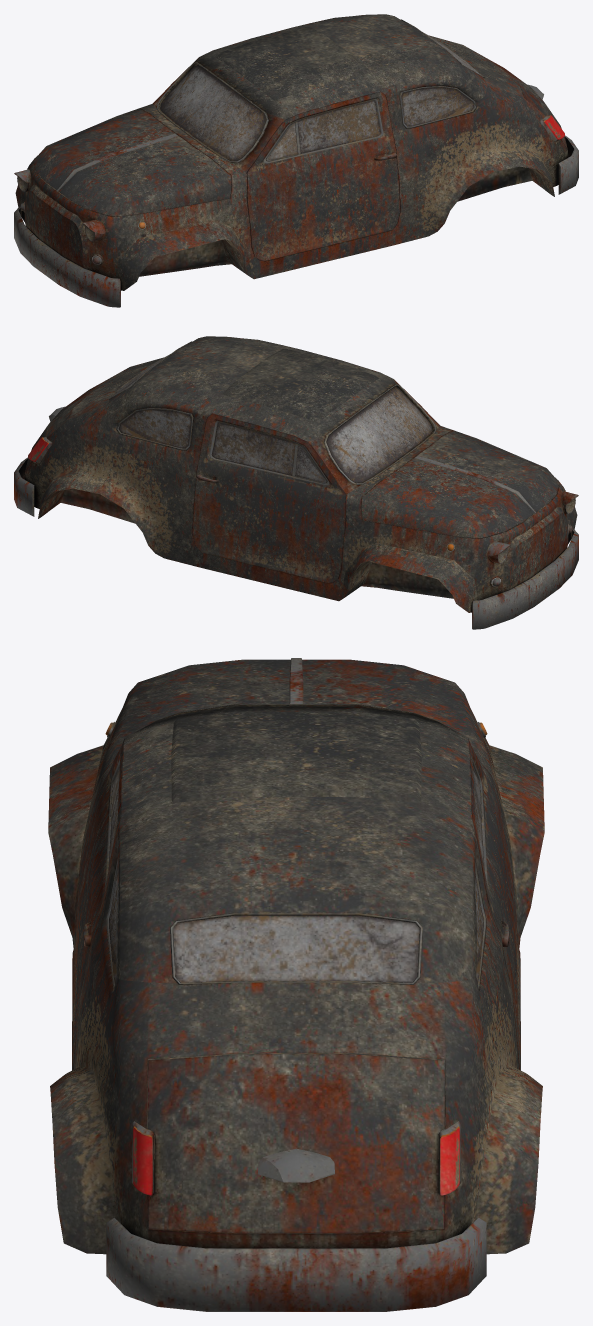
Rendered from FiatBody.FBX.
The picture shows the model from 3 angles, top to bottom: view 1: azimuth 30°, elevation 25°; view 2: azimuth 150°, elevation 25°; view 3: azimuth 270°, elevation 25°; orthographic projection. The views are drawn at different scales.
Visible parts, largest first — view 1: FiatBody; view 2: FiatBody; view 3: FiatBody.
Part boxes in pixels (x1,y1,x2,y2): FiatBody: (14, 14, 578, 307); FiatBody: (14, 336, 578, 629); FiatBody: (48, 658, 544, 1311).
Size of the model in its own units: 181 by 55.39 by 77.39.
1 material, 1 textured.
